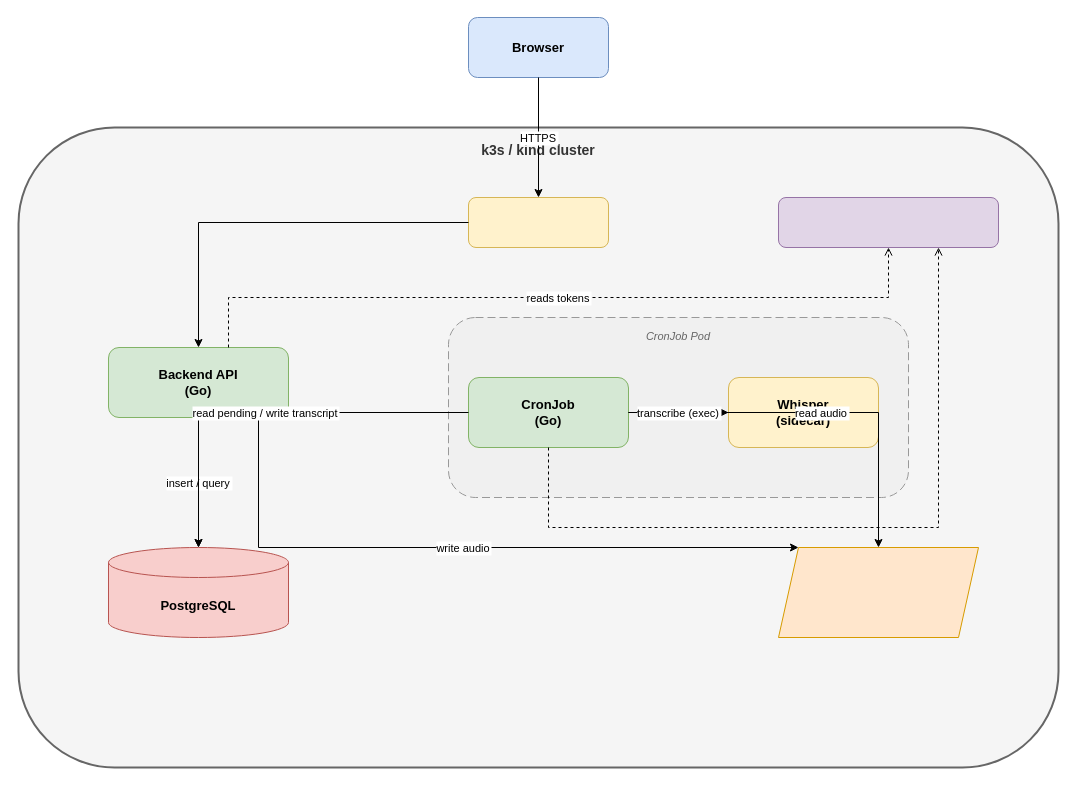
The diagram is 1076 pixels wide and 786 high, and some of its shapes have lost their labels. The shapes that lost their labels are listed below. From the top down, each one's centre as x and y in pixels, then its label:
At (538,222): "Ingress".
At (888,222): "k8s Secret (tokens · DB creds)".
At (878,592): "PVC (audio files)".
